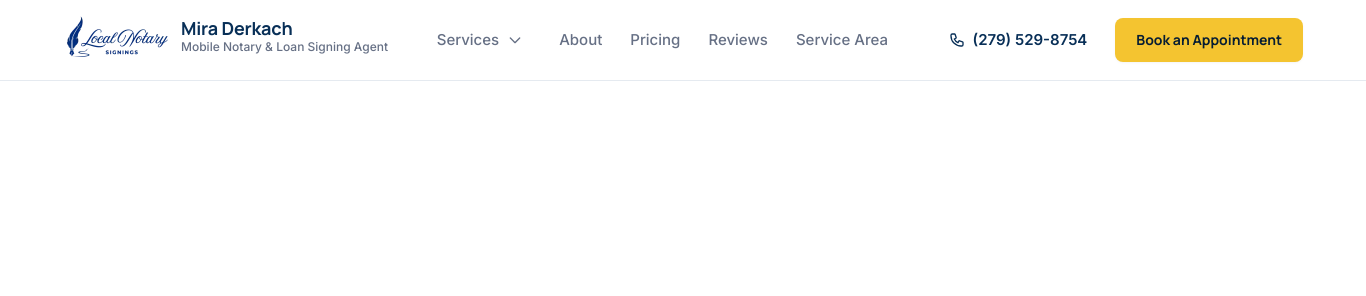
Test: SiteHeaderComponent › toggles the services dropdown with aria-expanded and closes on Escape
Click the button with class "dropdown-toggle". click: [515, 40]
box: [499, 18, 531, 62]
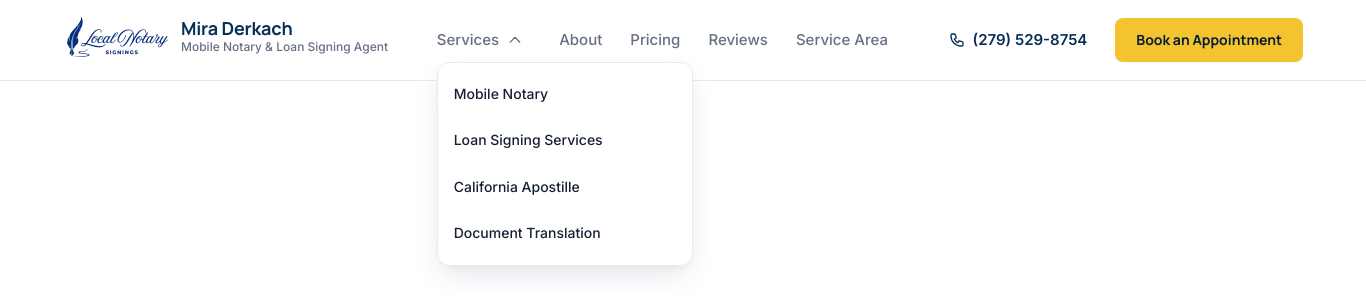
Now the button with class "dropdown-toggle" is expanded, box [499, 18, 531, 62]
Press Escape in the element that starts with "Mira Derkach", box [0, 0, 1365, 81]
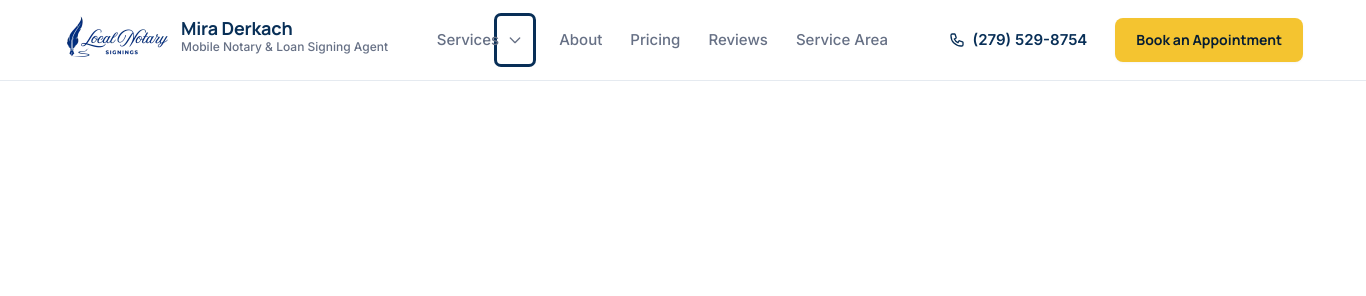
Now the button with class "dropdown-toggle" is collapsed, box [499, 18, 531, 62]
